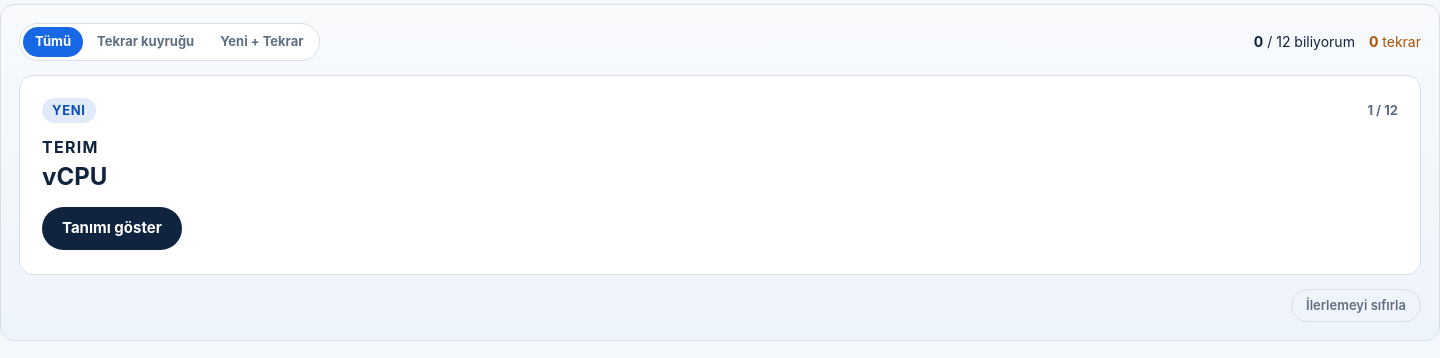
FlashcardDeck › switches to "Tekrar kuyruğu" filter and shows empty state when no repeats
Step 1. Click the button with test id "flashcard-filter-repeat" → (146, 42), box [85,27,206,56]
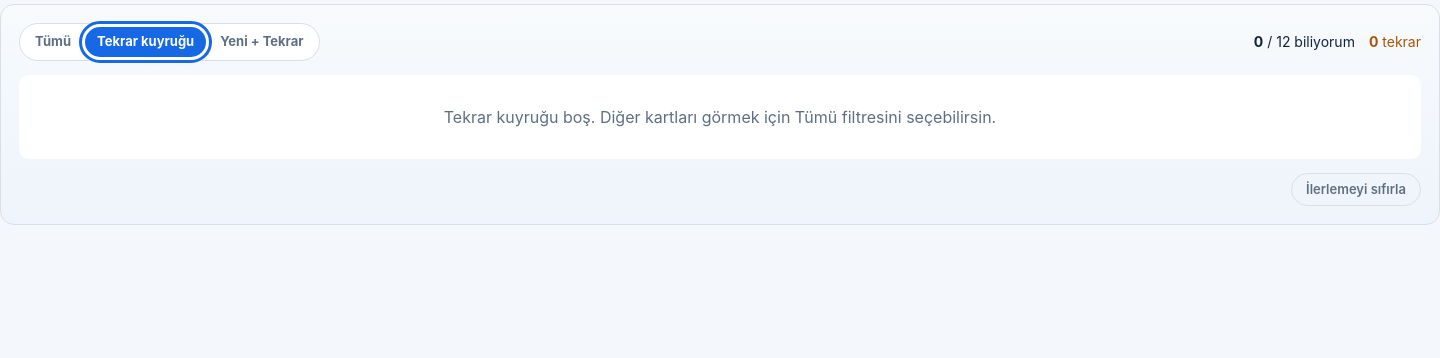
Expected: the text "Tekrar kuyruğu boş. Diğer kartları görmek için Tümü filtresini seçebilirsin." is shown, [19,74,1421,158]
